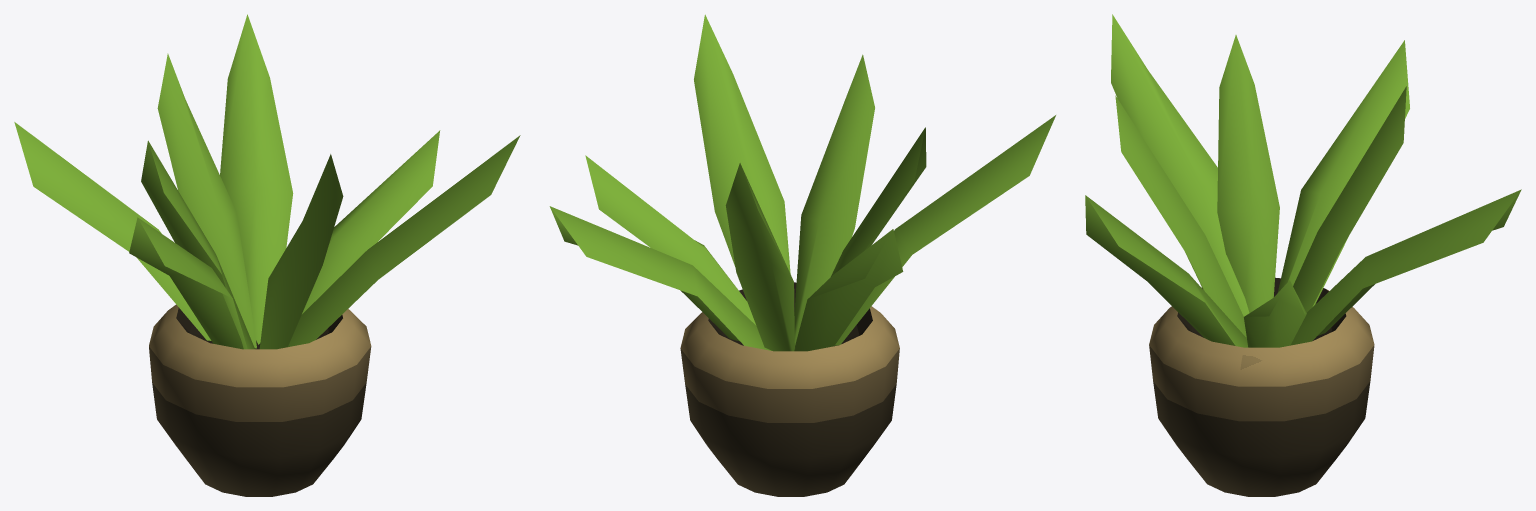
The model's file is obs_sm_plantTwo.fbx.
The picture shows the model from 3 angles, left to right: view 1: azimuth 30°, elevation 25°; view 2: azimuth 150°, elevation 25°; view 3: azimuth 270°, elevation 25°; orthographic projection. The views are drawn at different scales.
Visible parts, largest first — view 1: polySurface288; view 2: polySurface288; view 3: polySurface288.
Boxes of the visible parts, x1,y1,x2,y2 form: polySurface288: (14,14,520,496); polySurface288: (549,14,1055,496); polySurface288: (1085,14,1521,496).
Bounding box in the file's own units: 0.932 × 0.8459 × 0.8914.
